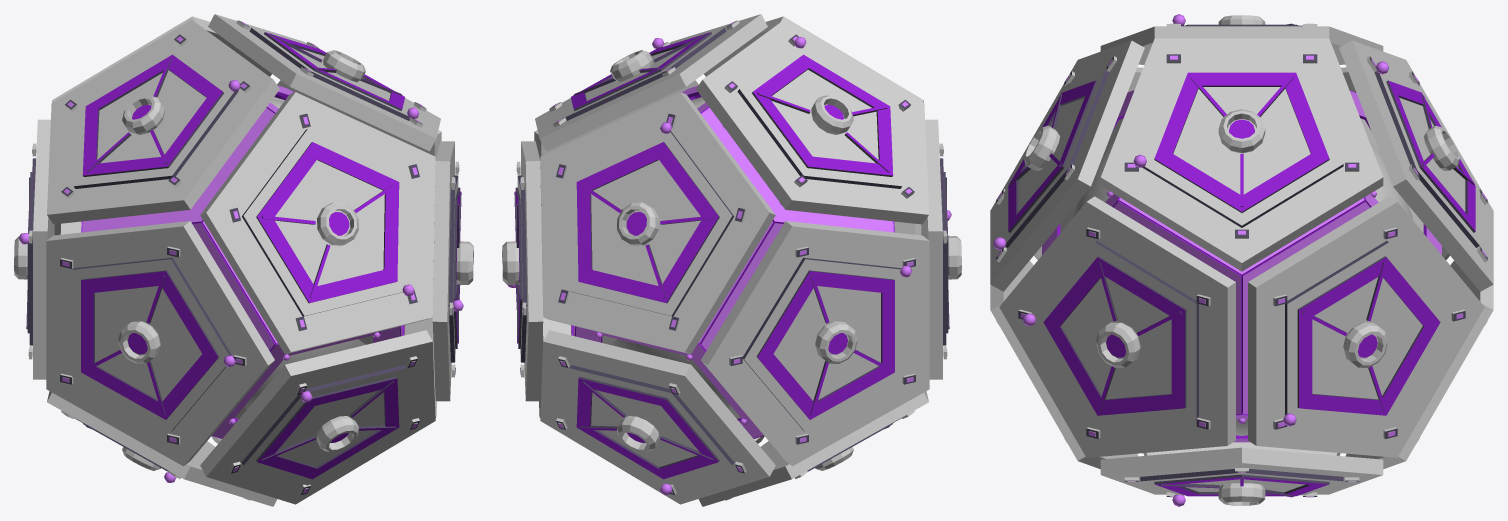
The model's file is twins_hive.obj.
3 views of the same model, side by side, from view 1: azimuth 30°, elevation 25°; view 2: azimuth 150°, elevation 25°; view 3: azimuth 270°, elevation 25° (orthographic). The views are drawn at different scales.
Visible parts, largest first — view 1: shell_3, shell_10, shell_5, shell_1, shell_7, shell_11, fx, shell_8, shell_4, body, shell_2, shell_9 (+1 smaller); view 2: shell_2, shell_8, shell_5, shell_0, shell_7, shell_9, fx, shell_10, shell_4, body, shell_3, shell_11 (+1 smaller); view 3: shell_7, shell_9, shell_11, shell_2, shell_3, shell_6, fx, shell_5, shell_0, shell_1, body, shell_4.
Part boxes in pixels (box(x1,y1,x2,y2)): shell_3: box(200, 92, 435, 354); shell_10: box(46, 221, 274, 466); shell_5: box(47, 20, 279, 224); shell_1: box(200, 330, 435, 504); shell_7: box(208, 14, 440, 151); shell_11: box(432, 141, 473, 401); fx: box(81, 85, 405, 438); shell_8: box(14, 119, 54, 379); shell_4: box(47, 391, 277, 506); body: box(235, 97, 373, 418); shell_2: box(52, 16, 271, 102); shell_9: box(277, 80, 441, 280); shell_2: box(540, 92, 775, 354); shell_8: box(701, 221, 929, 466); shell_5: box(696, 20, 928, 224); shell_0: box(540, 330, 775, 504); shell_7: box(535, 14, 767, 151); shell_9: box(502, 141, 543, 401); fx: box(570, 85, 894, 438); shell_10: box(921, 119, 961, 379); shell_4: box(698, 391, 928, 506); body: box(602, 97, 740, 418); shell_3: box(704, 16, 923, 102); shell_11: box(534, 80, 698, 280); shell_7: box(1100, 38, 1383, 271); shell_9: box(1248, 196, 1484, 457); shell_11: box(999, 196, 1235, 457); shell_2: box(1339, 40, 1493, 291); shell_3: box(990, 40, 1144, 291); shell_6: box(1100, 447, 1383, 506); fx: box(1042, 90, 1441, 442); shell_5: box(1100, 14, 1383, 64); shell_0: box(1346, 260, 1493, 469); shell_1: box(990, 260, 1137, 469); body: box(1060, 118, 1423, 435); shell_4: box(1143, 442, 1340, 455).
Bounding box in the file's own units: 0.5824 × 0.5824 × 0.5824.
